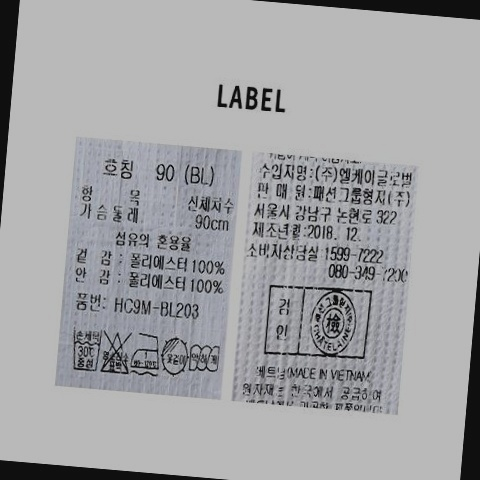DN_bleach: (100, 330, 135, 376)
hand_wash: (71, 325, 105, 374)
iron_low: (129, 332, 162, 375)
line_dry_in_shade: (159, 334, 191, 380)
wring: (188, 339, 222, 378)
